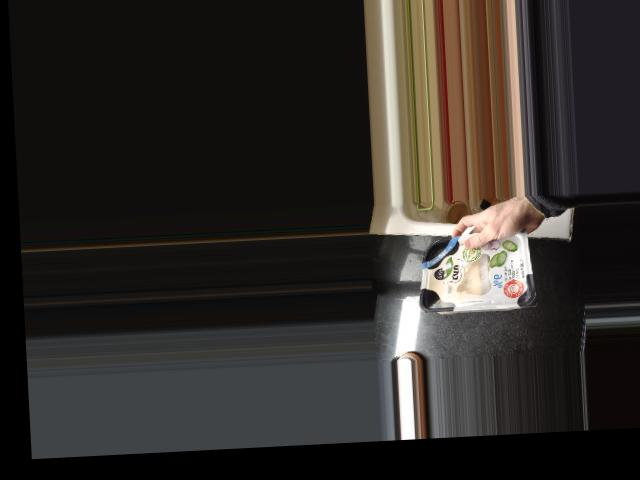cheese: (418, 222, 535, 313)
